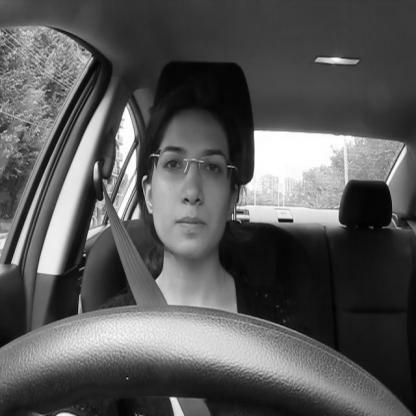seatbelt: (87, 63, 253, 416)
